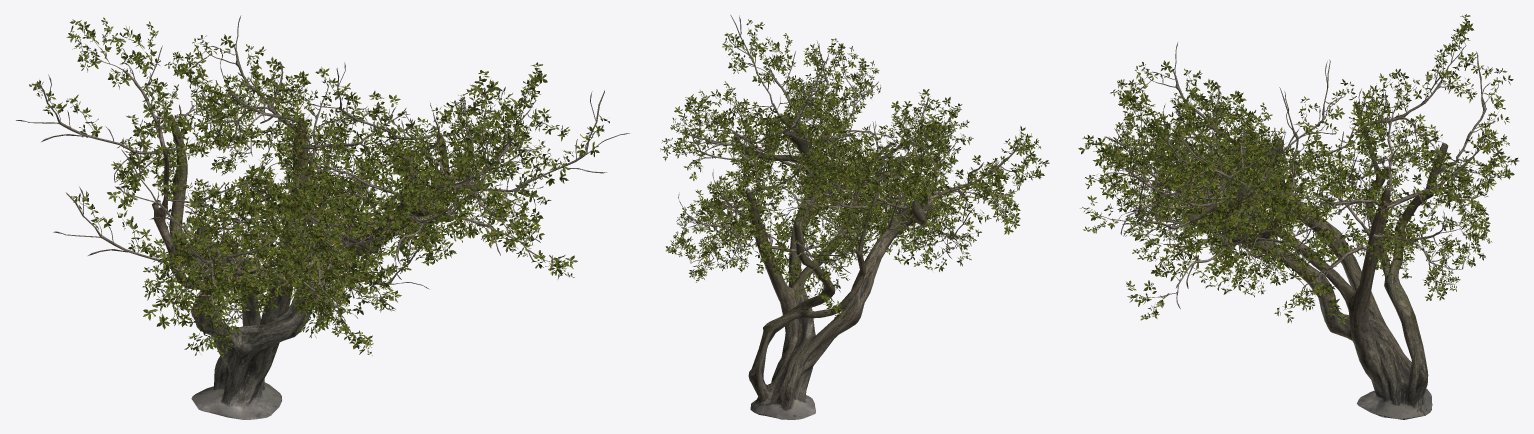
Rendered from trees.glb.
The picture shows the model from 3 angles, left to right: view 1: azimuth 30°, elevation 25°; view 2: azimuth 150°, elevation 25°; view 3: azimuth 270°, elevation 25°; orthographic projection. The views are drawn at different scales.
Visible parts, largest first — view 1: island_tree_02_LOD0; view 2: island_tree_02_LOD0; view 3: island_tree_02_LOD0.
Part boxes in pixels (x1,y1,x2,y2): island_tree_02_LOD0: (16,15,629,419); island_tree_02_LOD0: (660,14,1049,419); island_tree_02_LOD0: (1078,14,1518,419).
Size of the model in its own units: 4.21 by 3.41 by 4.07.
Materials: 3 (3 with a texture image).
